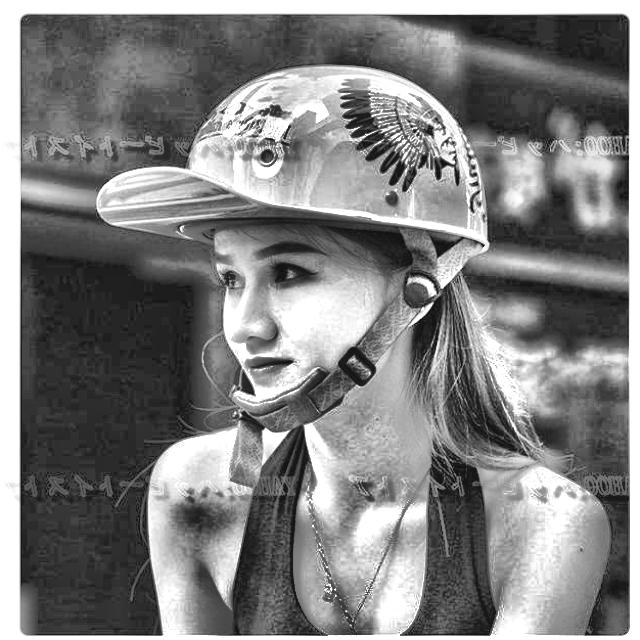Helmet: (87, 56, 499, 441)
